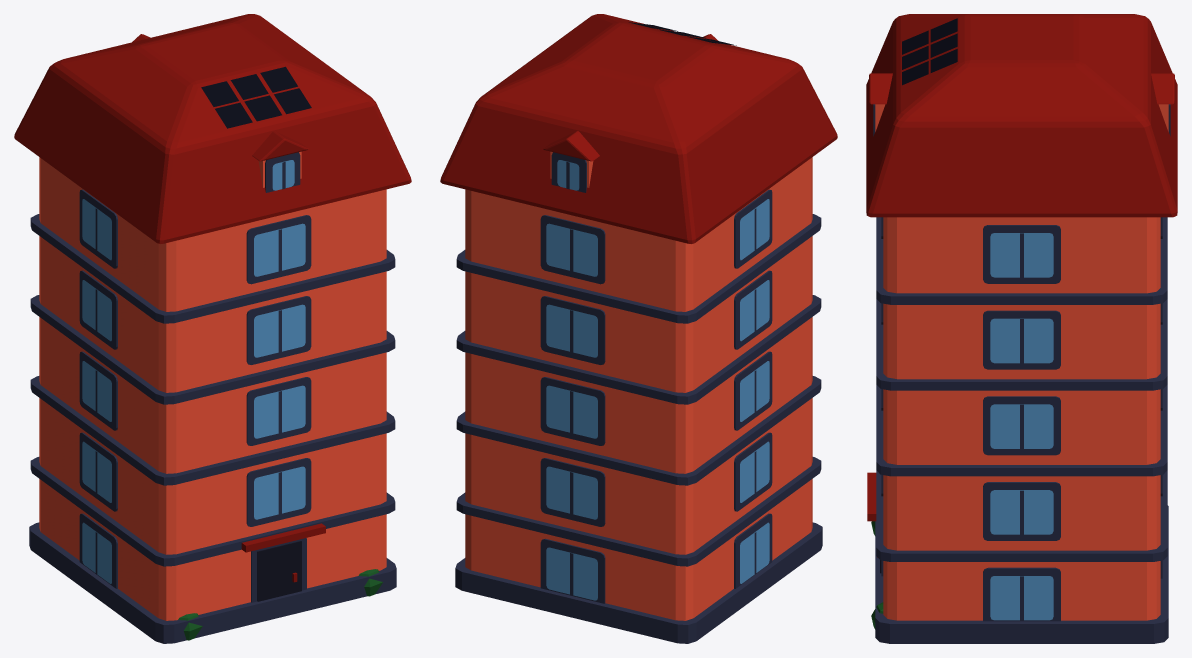
File: house-1x1-5f-mansard-c-solar.glb
The picture shows the model from 3 angles, left to right: view 1: azimuth 30°, elevation 25°; view 2: azimuth 150°, elevation 25°; view 3: azimuth 270°, elevation 25°; orthographic projection. The views are drawn at different scales.
Visible parts, largest first — view 1: house-1x1-5f-mansard-c-solar; view 2: house-1x1-5f-mansard-c-solar; view 3: house-1x1-5f-mansard-c-solar.
Boxes of the visible parts, x1=… form: house-1x1-5f-mansard-c-solar: x1=14, y1=14, x2=411, y2=643; house-1x1-5f-mansard-c-solar: x1=440, y1=14, x2=837, y2=643; house-1x1-5f-mansard-c-solar: x1=866, y1=14, x2=1177, y2=643.
Size of the model in its own units: 0.9876 by 1.9 by 0.9876.
1 material, 1 textured.
